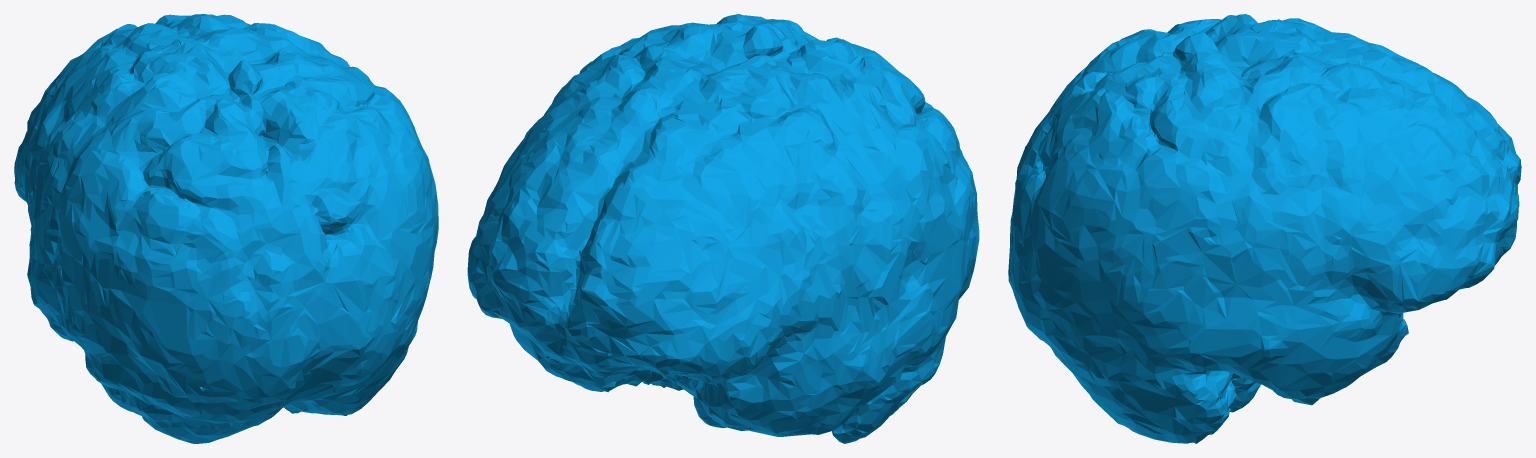
Rendered from BrainModel-Simplified.gltf.
3 renders of one model, left to right at view 1: azimuth 30°, elevation 25°; view 2: azimuth 150°, elevation 25°; view 3: azimuth 270°, elevation 25°, orthographic. The views are drawn at different scales.
Size of the model in its own units: 0.1459 by 0.1388 by 0.1758.
